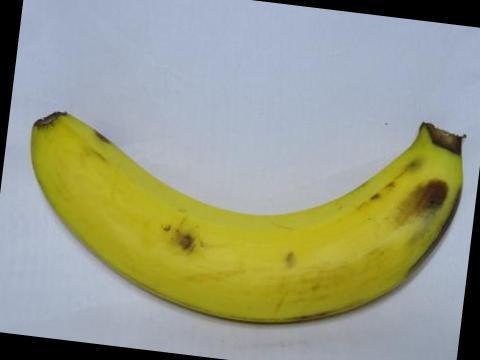freshripe: (20, 89, 479, 339)
